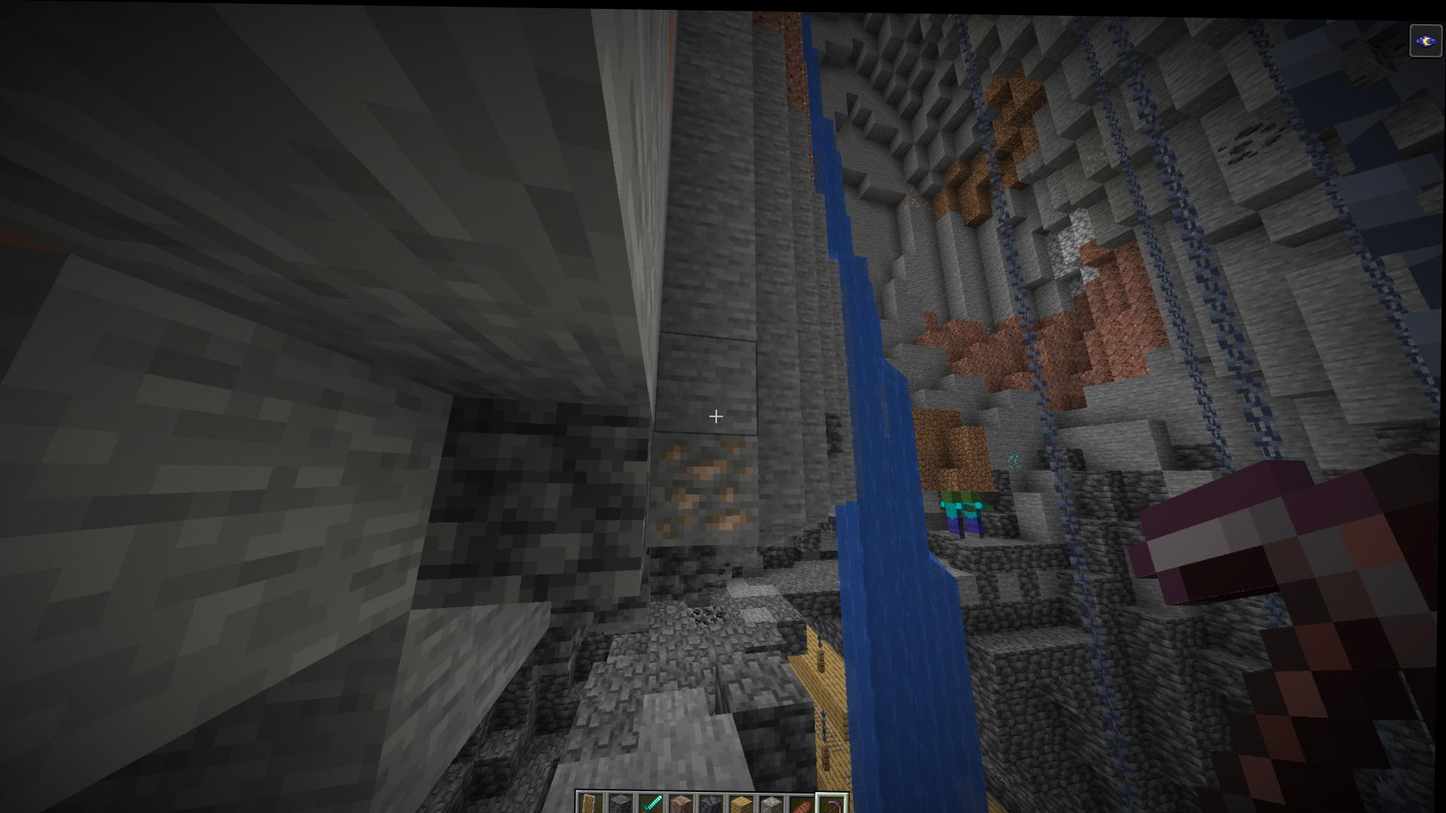diamond ore: (1008, 445, 1024, 468)
iron ore: (646, 427, 760, 550), (896, 184, 935, 211)
